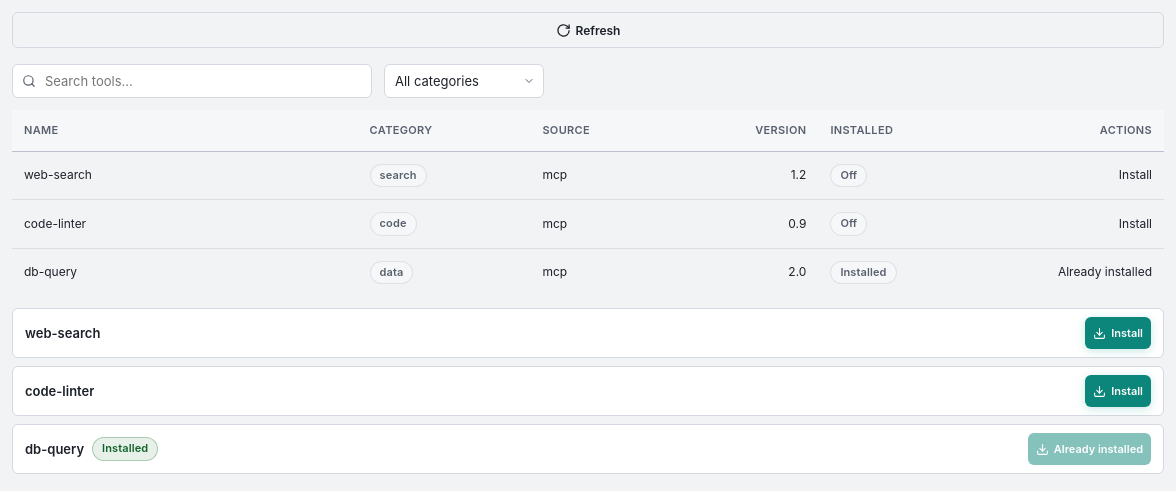
SkillMarket.vue › filters tools by search query
In the field with class "search-box__input": (192, 81) x1=12 y1=64 x2=372 y2=98, type "code"
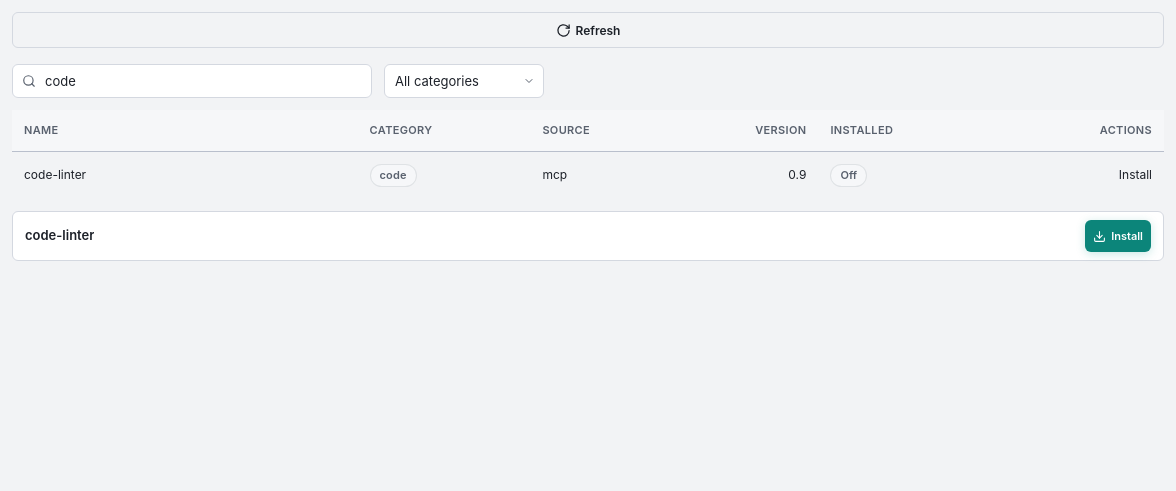
Expected: the text "code-linter" is shown, x1=24 y1=167 x2=86 y2=182
Now the number of elements with class "install-row" is 1, box x1=12 y1=211 x2=1164 y2=261
